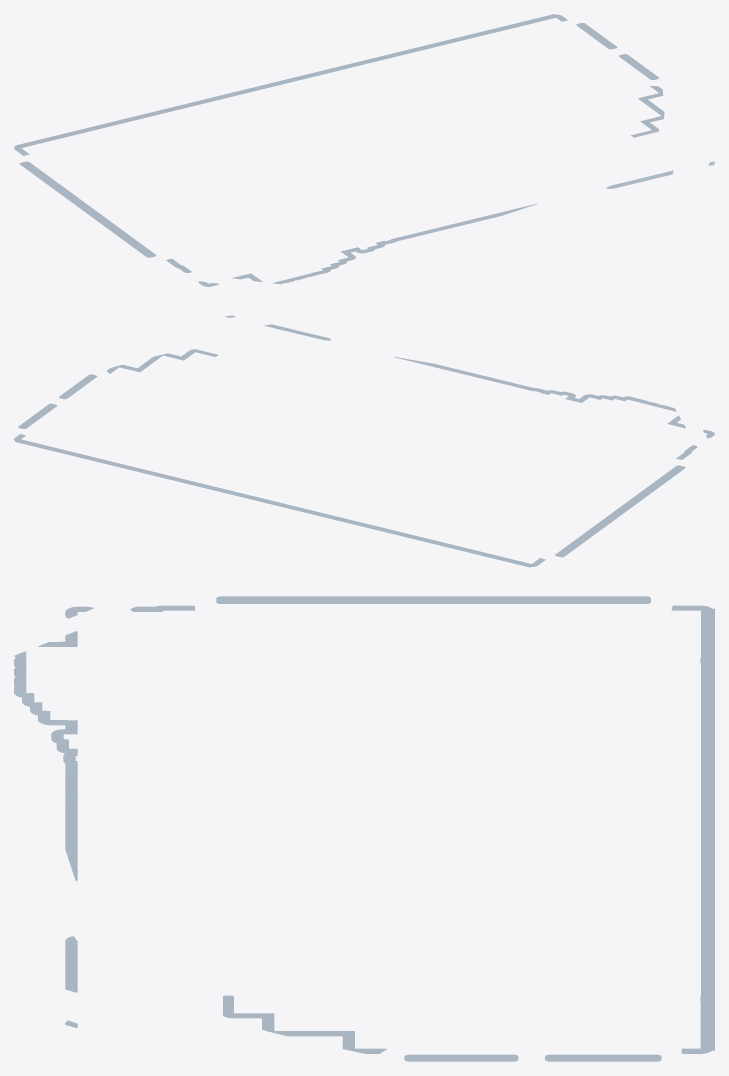
File: SM_MPRLG_CampusGreen.fbx
The picture shows the model from 3 angles, top to bottom: view 1: azimuth 30°, elevation 25°; view 2: azimuth 150°, elevation 25°; view 3: azimuth 270°, elevation 25°; orthographic projection. The views are drawn at different scales.
Parts seen in each view (by area): view 1: SM_MPRLG_CampusGreen; view 2: SM_MPRLG_CampusGreen; view 3: SM_MPRLG_CampusGreen.
Boxes of the visible parts, <box> form: SM_MPRLG_CampusGreen: <box>14,14,714,286</box>; SM_MPRLG_CampusGreen: <box>14,315,714,567</box>; SM_MPRLG_CampusGreen: <box>14,596,714,1061</box>.
Size of the model in its own units: 41530 by 26439 by 127.
